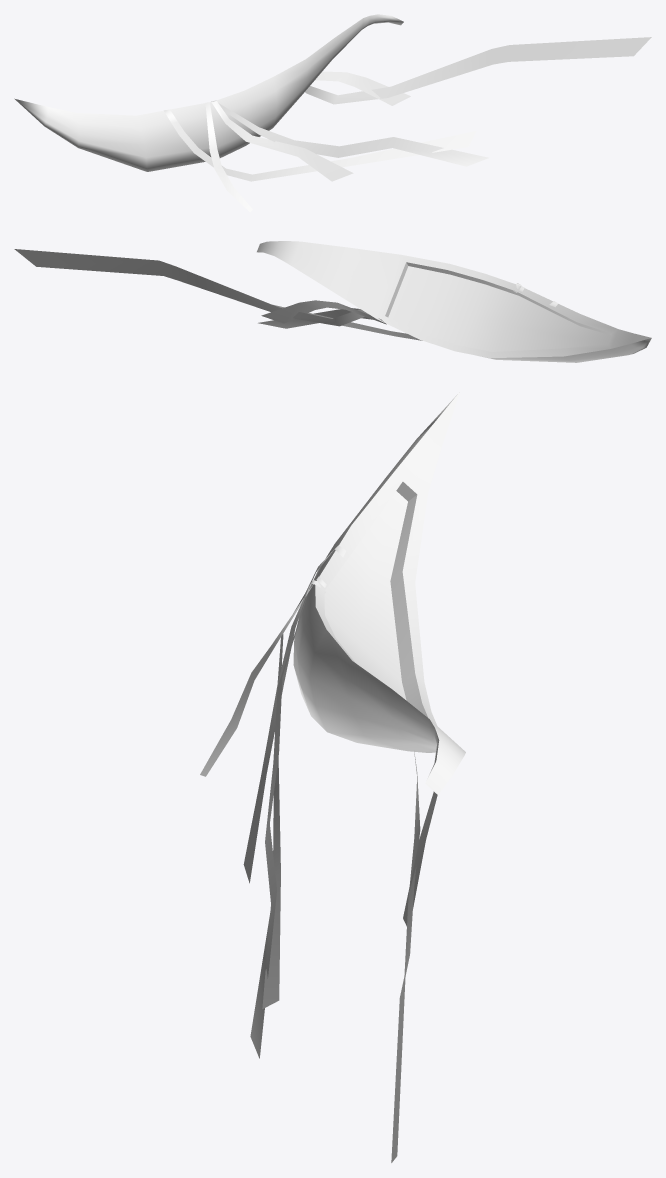
The model's file is M5_P_chuan01.FBX.
3 renders of one model, top to bottom at view 1: azimuth 30°, elevation 25°; view 2: azimuth 150°, elevation 25°; view 3: azimuth 270°, elevation 25°, orthographic. The views are drawn at different scales.
Visible parts, largest first — view 1: M5_P_chuan01; view 2: M5_P_chuan01; view 3: M5_P_chuan01.
Part boxes in pixels (x1,y1,x2,y2): M5_P_chuan01: [14, 14, 651, 212]; M5_P_chuan01: [14, 241, 651, 362]; M5_P_chuan01: [200, 392, 465, 1162].
Size of the model in its own units: 2050 by 409 by 380.
